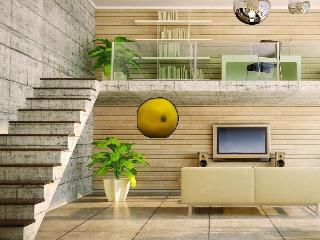lemon: (137, 100, 176, 139)
